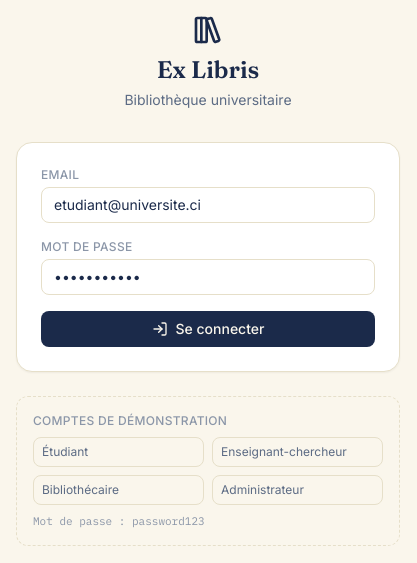
Test: Login › les boutons de comptes de démonstration remplissent le champ email
Step 1. Click the button "Bibliothécaire" → (118, 490), box [33,475,204,505]
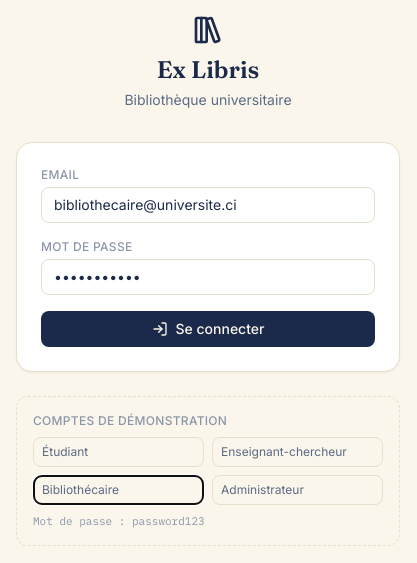
Expected: the field showing "bibliothecaire@universite.ci" is shown, [41,187,375,223]
